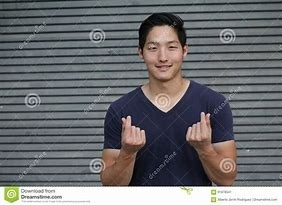oneheart: (182, 112, 218, 148), (116, 114, 151, 149)
